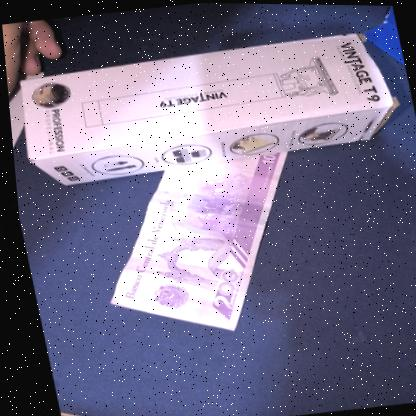vef_back: (76, 146, 319, 345)
